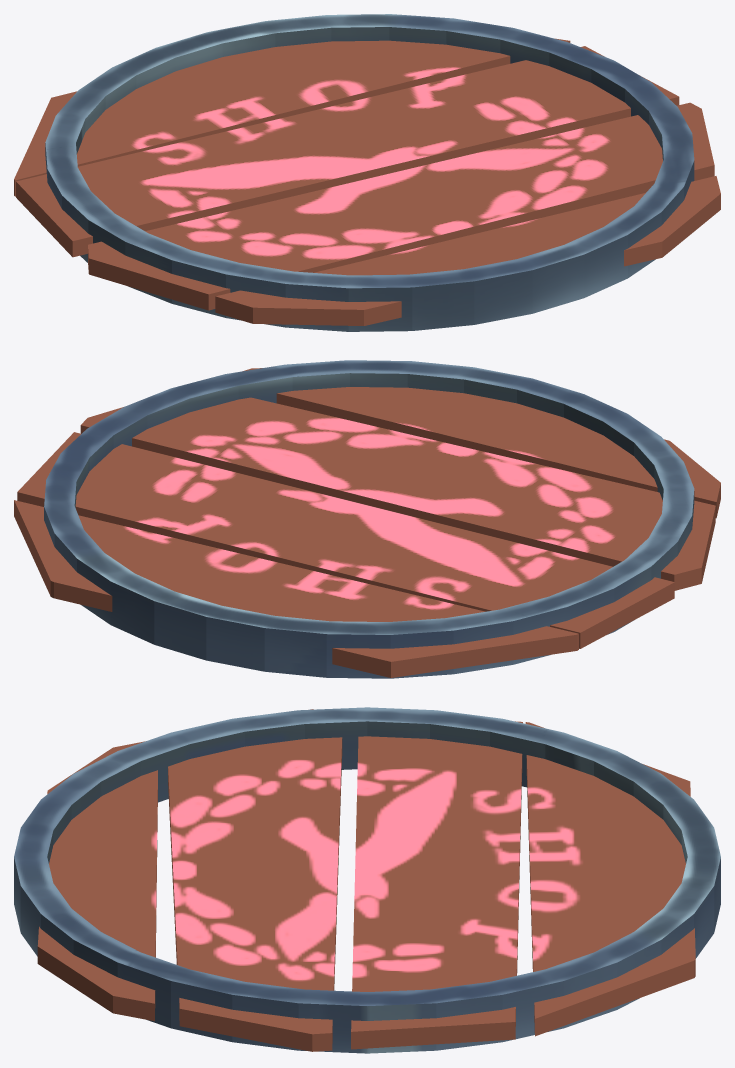
The model's file is Case_Event.fbx.
The picture shows the model from 3 angles, top to bottom: view 1: azimuth 30°, elevation 25°; view 2: azimuth 150°, elevation 25°; view 3: azimuth 270°, elevation 25°; orthographic projection. The views are drawn at different scales.
Parts seen in each view (by area): view 1: Cylinder; view 2: Cylinder; view 3: Cylinder.
Boxes of the visible parts, x1,y1,x2,y2 form: Cylinder: [14, 14, 720, 331]; Cylinder: [14, 360, 720, 678]; Cylinder: [14, 707, 720, 1053].
Size of the model in its own units: 218 by 14.81 by 200.
